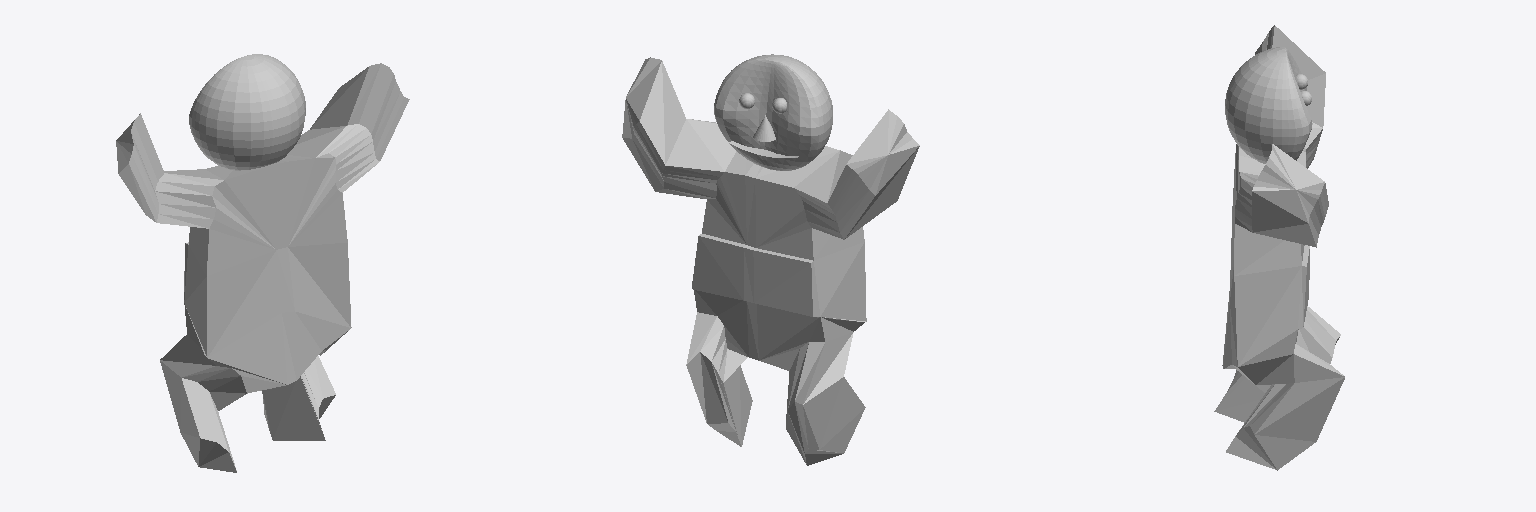
File: manjump_000011.obj
3 renders of one model, left to right at view 1: azimuth 30°, elevation 25°; view 2: azimuth 150°, elevation 25°; view 3: azimuth 270°, elevation 25°, orthographic.
Parts seen in each view (by area): view 1: Cube; view 2: Cube; view 3: Cube.
Part boxes in pixels (x1,y1,x2,y2): Cube: (116, 54, 409, 472); Cube: (622, 54, 919, 465); Cube: (1214, 25, 1344, 470).
Bounding box in the file's own units: 87.64 × 120 × 35.69.